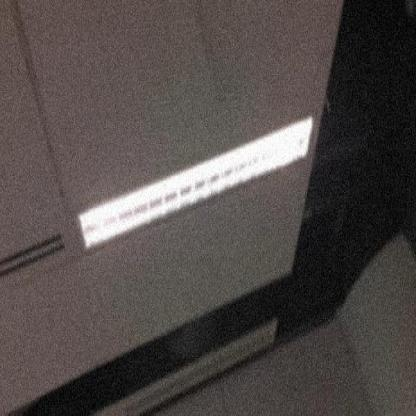light_on: (77, 108, 323, 254)
